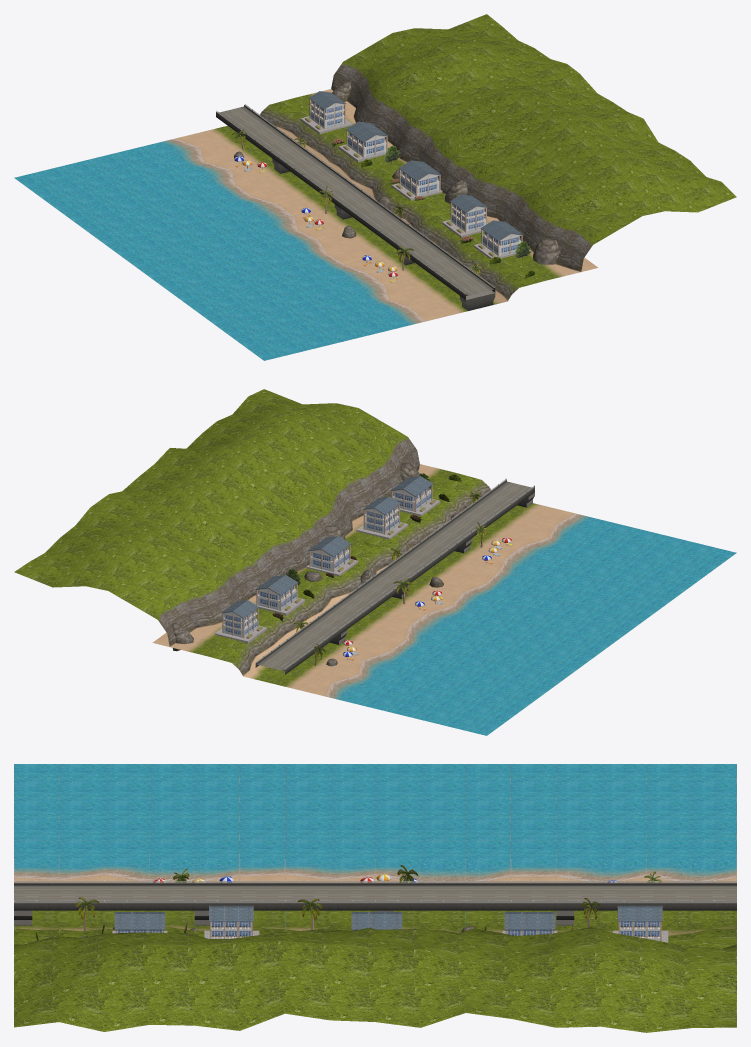
File: Track013_Low.FBX
3 views of the same model, one above another, from view 1: azimuth 30°, elevation 25°; view 2: azimuth 150°, elevation 25°; view 3: azimuth 270°, elevation 25° (orthographic). The views are drawn at different scales.
Visible parts, largest first — view 1: Ground, Rock (×2), Road (×2), Villa (×5); view 2: Ground, Rock, Road (×2), Villa (×5); view 3: Ground, Rock, Road (×2), Villa (×5).
Boxes of the visible parts, x1,y1,x2,y2 form: Ground: [14, 89, 598, 360]; Rock (×2): [331, 14, 736, 271]; Road (×2): [216, 104, 495, 299]; Villa (×5): [300, 91, 523, 259]; Ground: [152, 464, 736, 735]; Rock: [14, 389, 419, 646]; Road (×2): [255, 478, 534, 674]; Villa (×5): [215, 476, 440, 643]; Ground: [14, 764, 736, 948]; Rock: [14, 927, 736, 1032]; Road (×2): [14, 880, 736, 910]; Villa (×5): [112, 905, 668, 942].
Bounding box in the file's own units: 6904 × 1087 × 6300.
